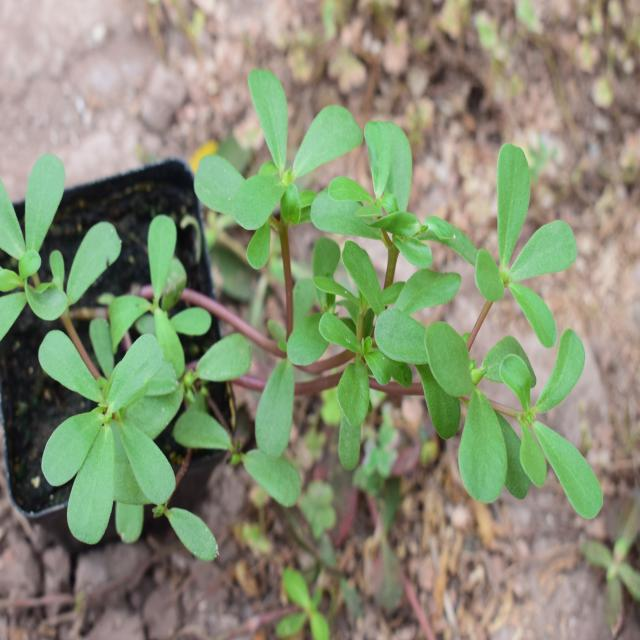purslane: (248, 106, 613, 524), (0, 175, 254, 545)
